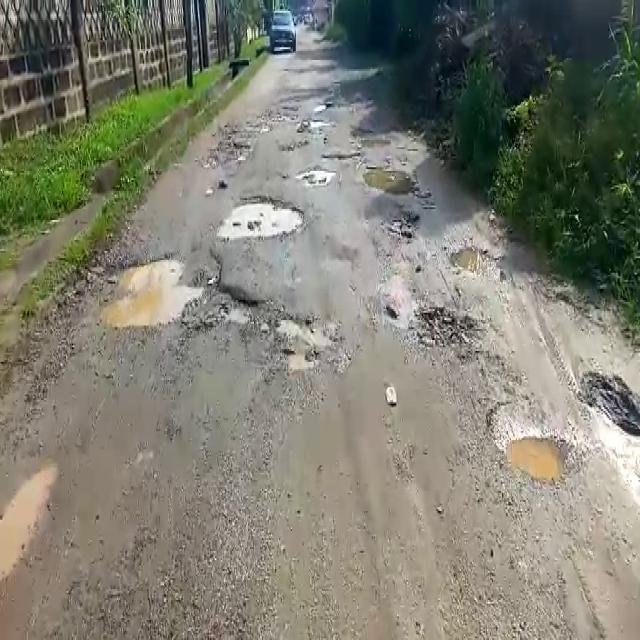Pothole: (95, 248, 224, 330), (486, 396, 574, 486), (0, 463, 60, 586), (578, 368, 639, 442), (217, 195, 307, 242), (416, 300, 486, 356), (276, 315, 338, 372), (448, 242, 508, 276), (363, 167, 422, 199), (383, 210, 425, 240), (292, 164, 336, 184)
